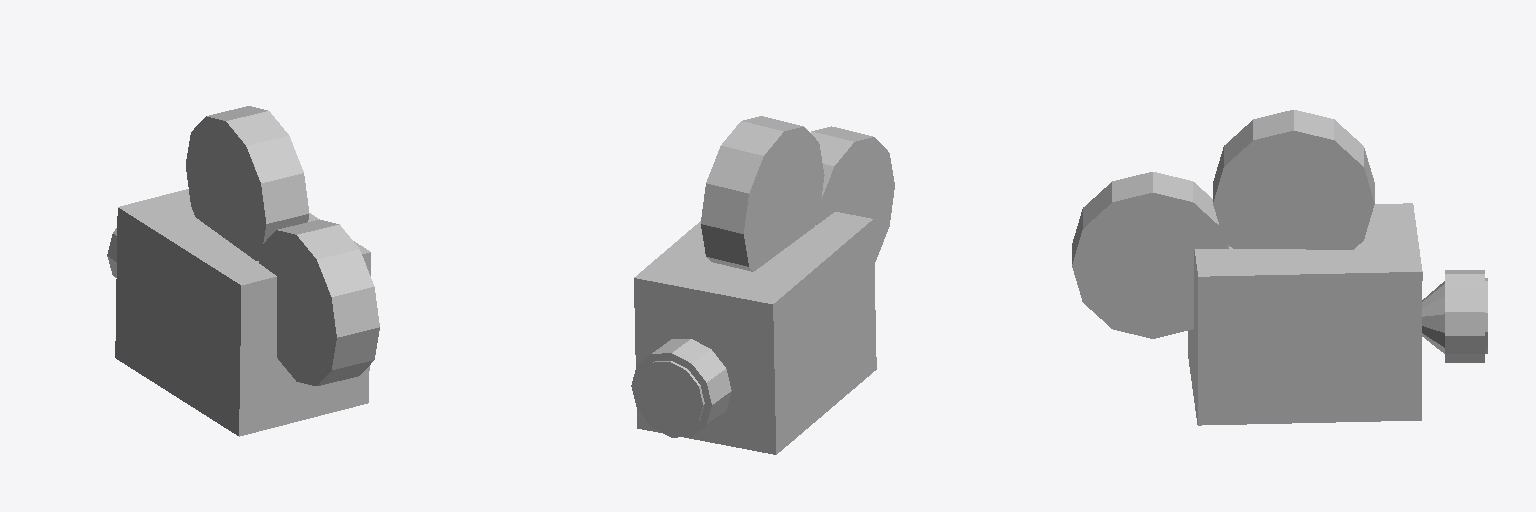
The model's file is camera.obj.
3 renders of one model, left to right at view 1: azimuth 30°, elevation 25°; view 2: azimuth 150°, elevation 25°; view 3: azimuth 270°, elevation 25°, orthographic.
Parts seen in each view (by area): view 1: group[number redacted], group[number redacted], group[number redacted]; view 2: group[number redacted], group[number redacted], group[number redacted], group[number redacted], group[number redacted]; view 3: group[number redacted], group[number redacted], group[number redacted], group[number redacted], group[number redacted].
Boxes of the visible parts, x1,y1,x2,y2 form: group[number redacted]: [115, 189, 370, 436]; group[number redacted]: [259, 219, 379, 385]; group[number redacted]: [186, 106, 309, 260]; group[number redacted]: [634, 212, 876, 454]; group[number redacted]: [701, 116, 824, 271]; group[number redacted]: [811, 126, 894, 261]; group[number redacted]: [631, 339, 731, 437]; group[number redacted]: [637, 361, 704, 430]; group[number redacted]: [1188, 203, 1422, 425]; group[number redacted]: [1213, 110, 1374, 249]; group[number redacted]: [1072, 172, 1228, 338]; group[number redacted]: [1445, 270, 1484, 362]; group[number redacted]: [1422, 281, 1444, 353].
Bounding box in the file's own units: 0.83 × 1.44 × 2.01.